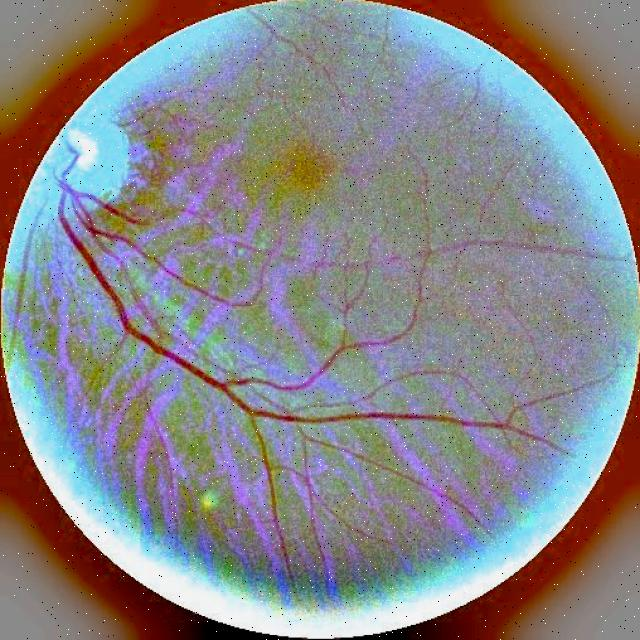Macula: (261, 132, 348, 208)
Nerves: (123, 319, 510, 427), (57, 169, 251, 306), (60, 214, 169, 355), (54, 139, 107, 208), (173, 355, 220, 388)
Optic Disk: (28, 111, 134, 220)
